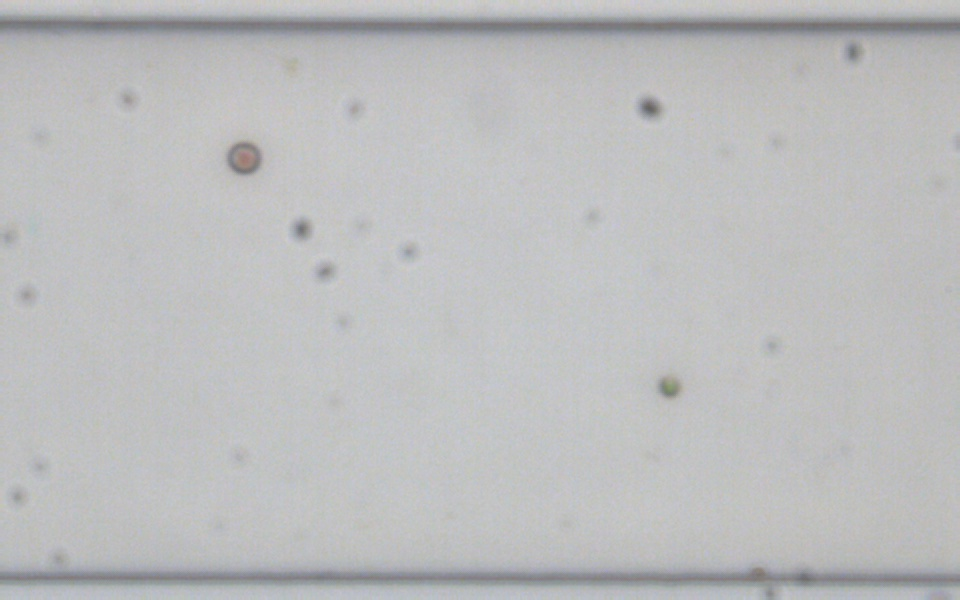Chlorella: (658, 376, 679, 396)
Porphyridium: (225, 140, 262, 175)
